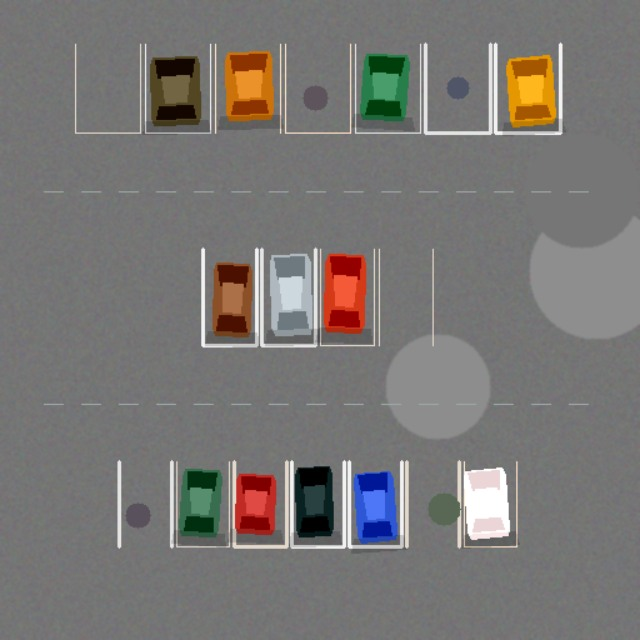space-empty: (75, 44, 140, 132), (285, 44, 350, 132), (425, 44, 490, 132), (379, 249, 432, 345), (406, 461, 459, 546), (119, 461, 171, 546)
space-occupied: (145, 44, 210, 132), (215, 44, 280, 132), (355, 44, 420, 132), (495, 44, 560, 132), (202, 249, 256, 345), (261, 249, 315, 345), (320, 249, 374, 345), (176, 461, 229, 546), (291, 461, 344, 546), (234, 461, 286, 546), (349, 461, 401, 546), (464, 461, 516, 546)
